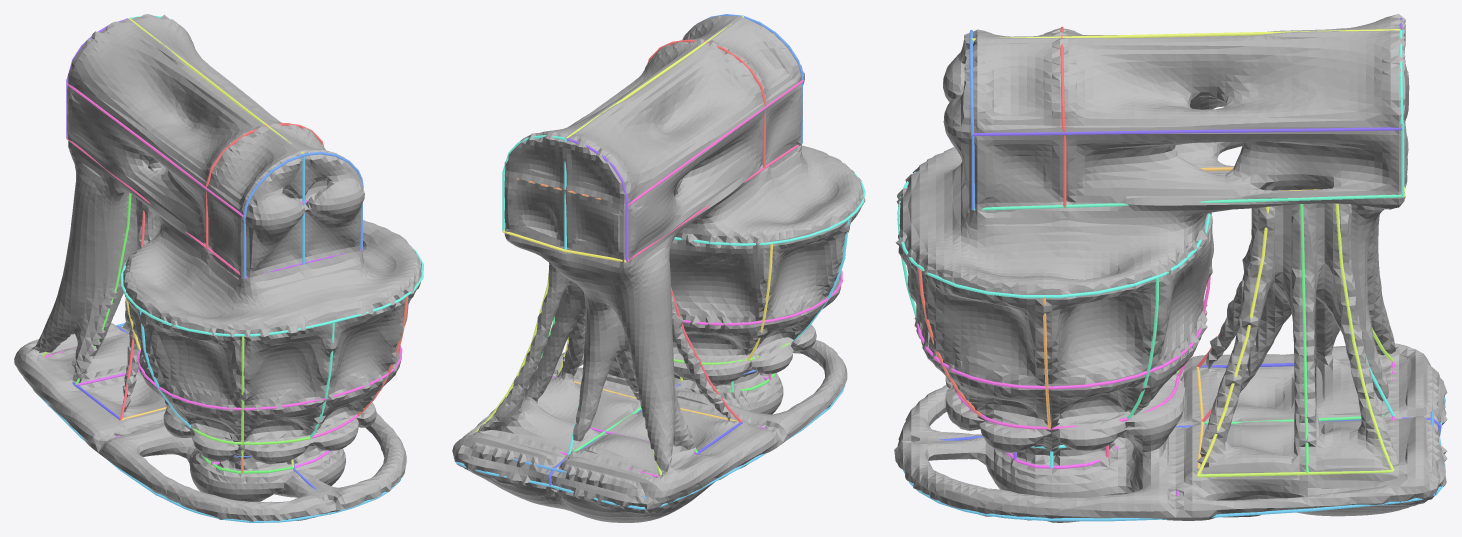
File: t2f_blender.gltf
3 renders of one model, left to right at view 1: azimuth 30°, elevation 25°; view 2: azimuth 150°, elevation 25°; view 3: azimuth 270°, elevation 25°, orthographic. The views are drawn at different scales.
Size of the model in its own units: 0.4703 by 0.6378 by 0.6817.
